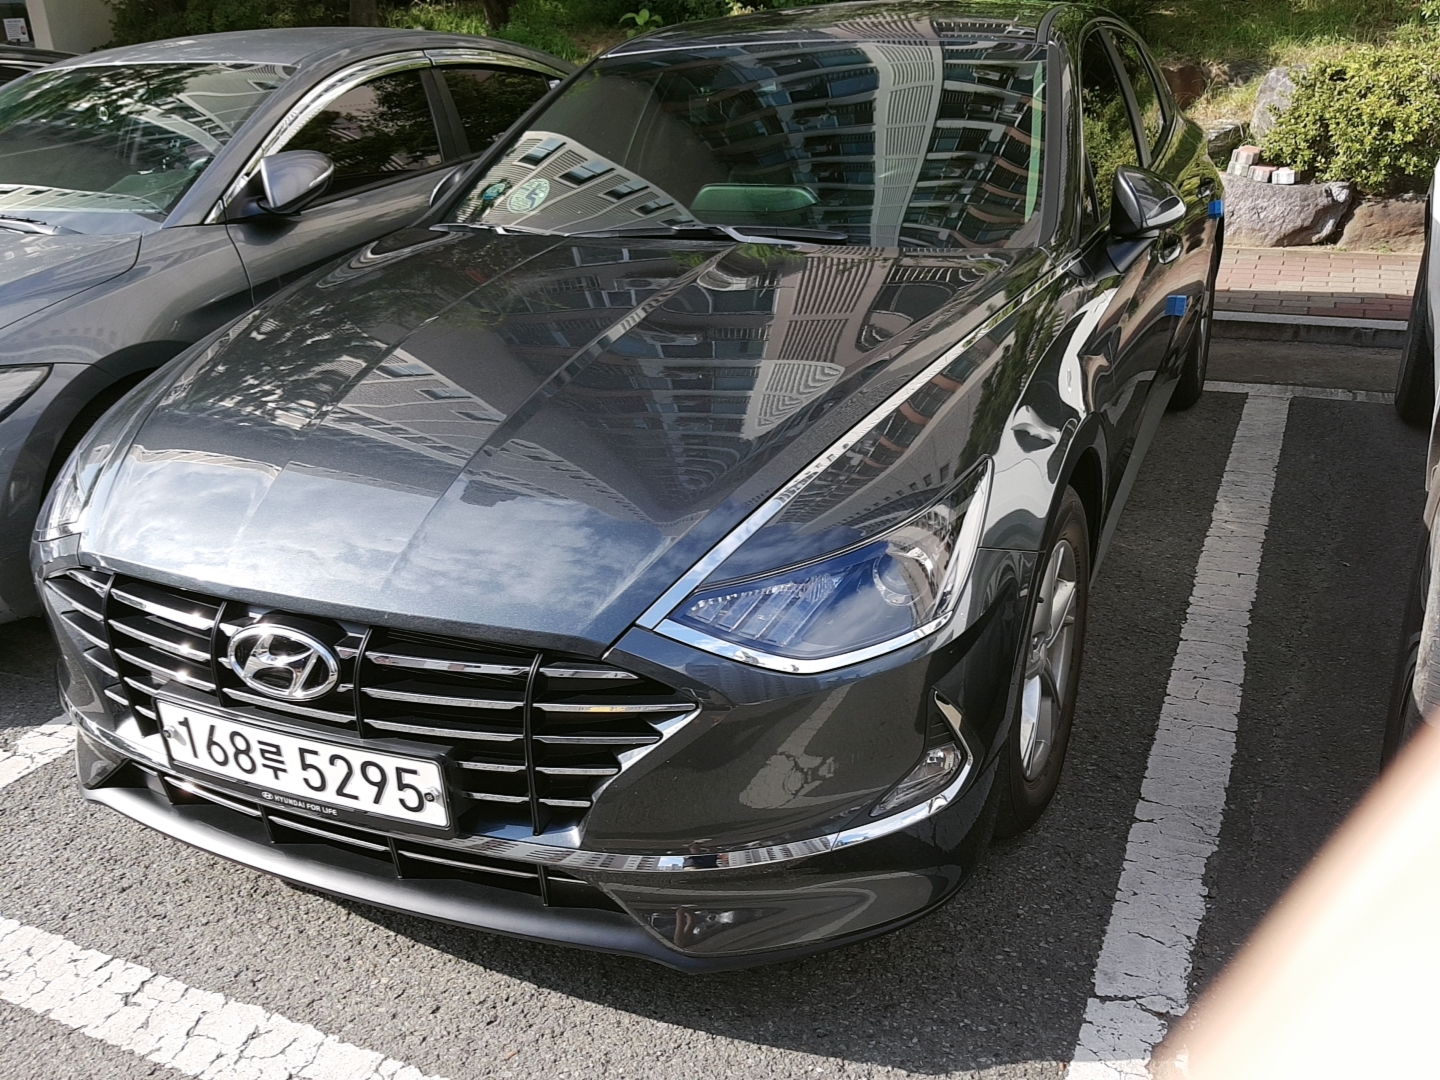apart_parking: (481, 178, 507, 201)
disabled_parking: (505, 174, 554, 218)
